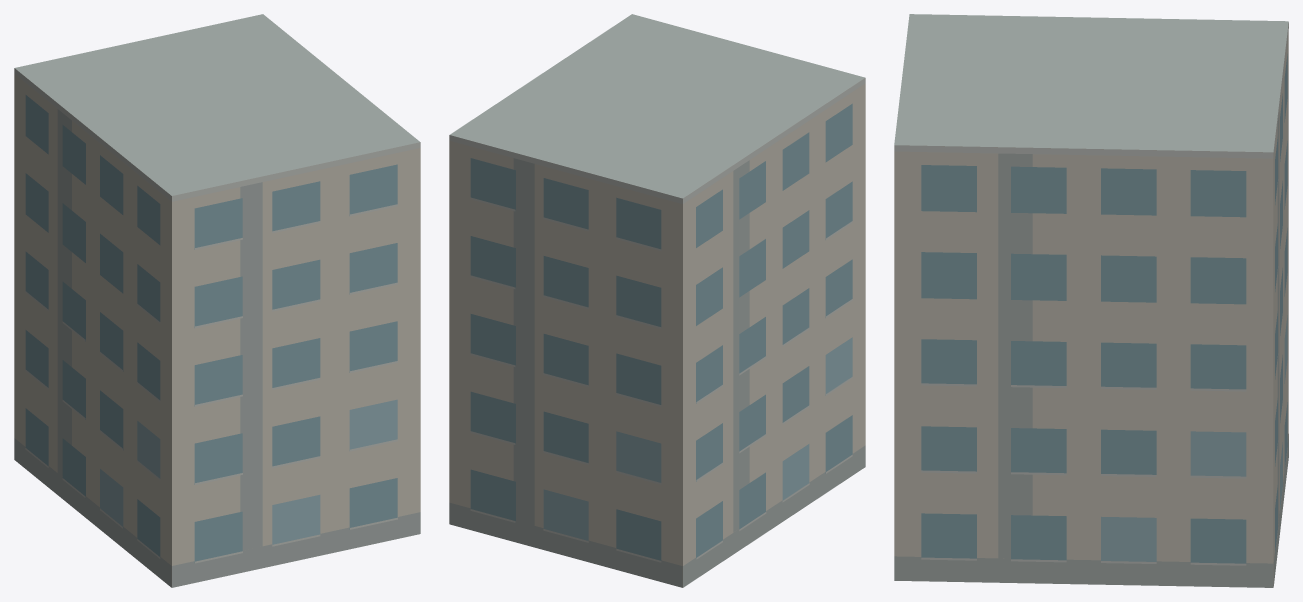
Rendered from survey-upis-33042016.glb.
The picture shows the model from 3 angles, left to right: view 1: azimuth 30°, elevation 25°; view 2: azimuth 150°, elevation 25°; view 3: azimuth 270°, elevation 25°; orthographic projection. The views are drawn at different scales.
Parts seen in each view (by area): view 1: survey-upis-33042016.tmp; view 2: survey-upis-33042016.tmp; view 3: survey-upis-33042016.tmp.
Part boxes in pixels (bbox=[...]): survey-upis-33042016.tmp: bbox=[14, 14, 420, 587]; survey-upis-33042016.tmp: bbox=[449, 14, 865, 587]; survey-upis-33042016.tmp: bbox=[894, 14, 1288, 587].
Size of the model in its own units: 11.38 by 16.7 by 13.72.
